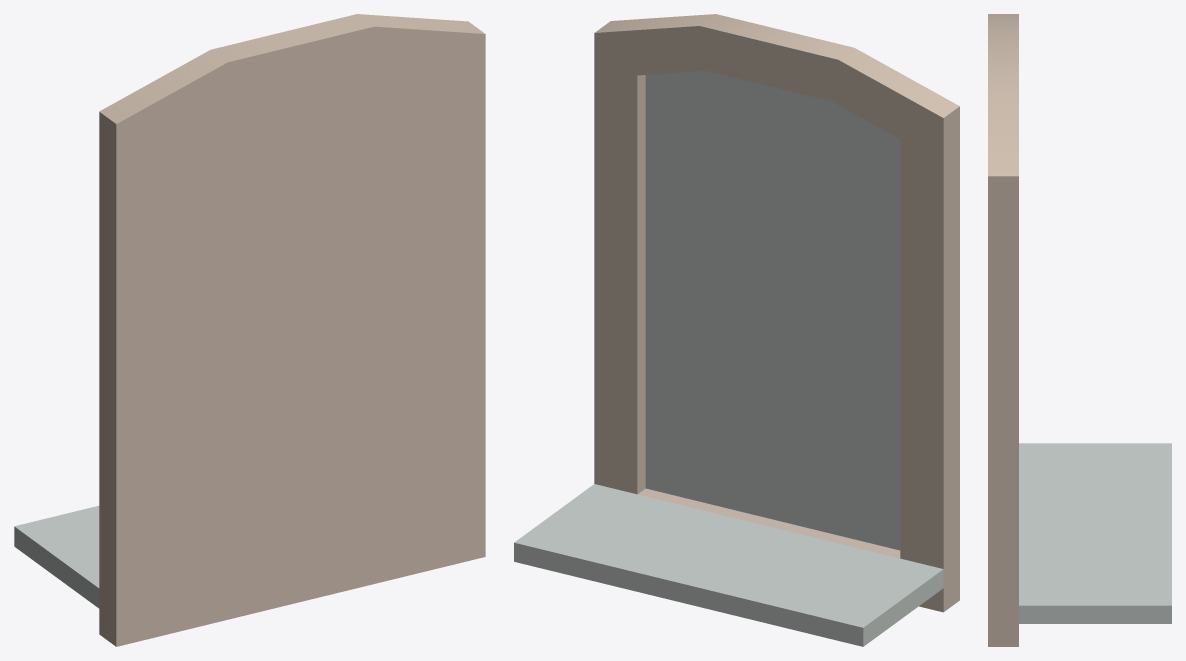
Rendered from furn_bathroomMirror.glb.
3 views of the same model, side by side, from view 1: azimuth 30°, elevation 25°; view 2: azimuth 150°, elevation 25°; view 3: azimuth 270°, elevation 25° (orthographic). The views are drawn at different scales.
Size of the model in its own units: 0.6027 by 0.8693 by 0.2888.
